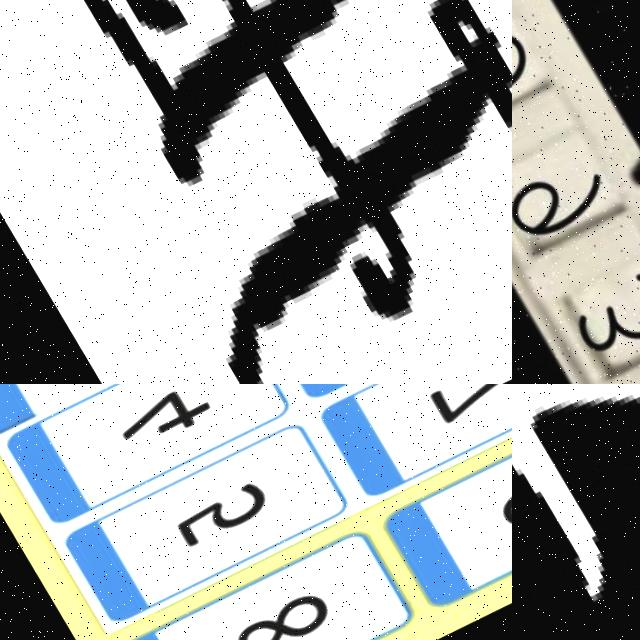3: (527, 219, 640, 384)
4: (96, 384, 216, 460)
5: (155, 464, 273, 556), (512, 0, 563, 150)
7: (411, 384, 512, 425)
8: (212, 572, 330, 640)
9: (512, 384, 640, 640), (512, 105, 638, 277), (479, 436, 512, 531)
H: (71, 0, 512, 348)
